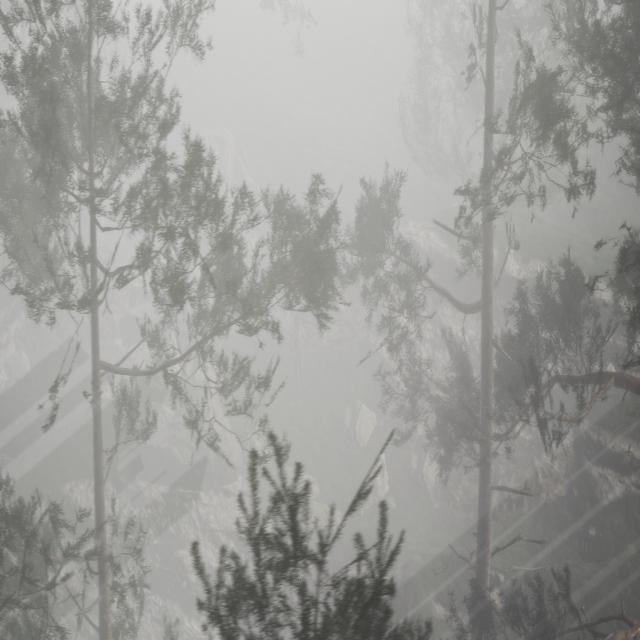Human: (288, 296, 309, 402)
